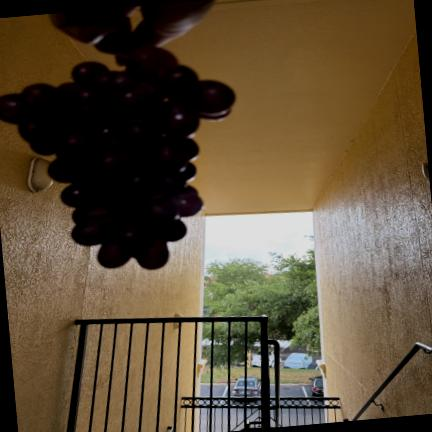grape_cluster: (0, 48, 235, 269)
